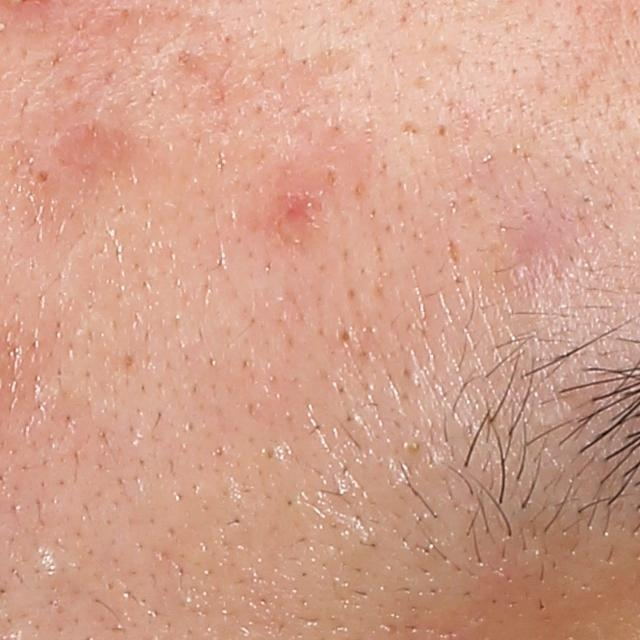atrophic_scar: (444, 235, 462, 270)
comedo: (31, 166, 54, 190)
